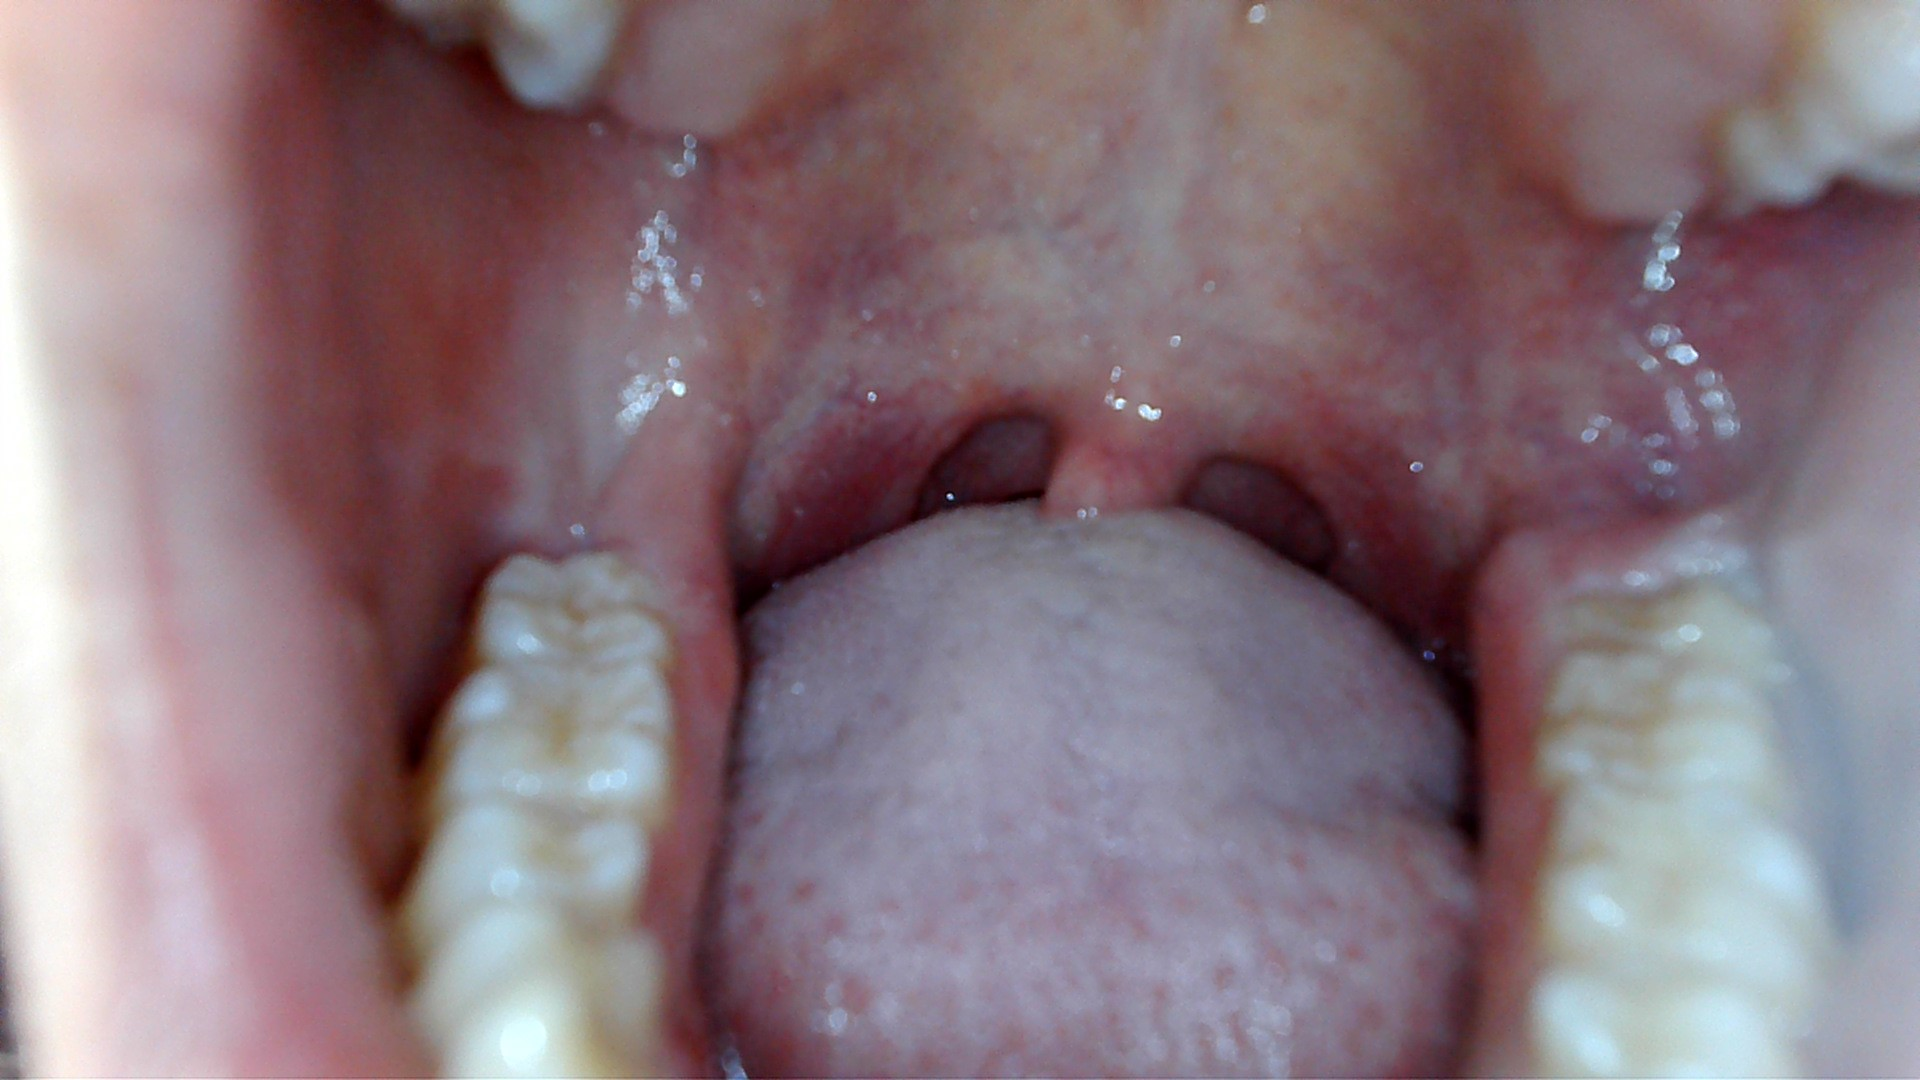throat: (1286, 419, 1390, 580), (866, 376, 971, 512)
